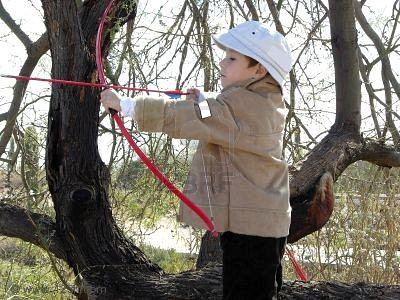person: (102, 21, 293, 298)
